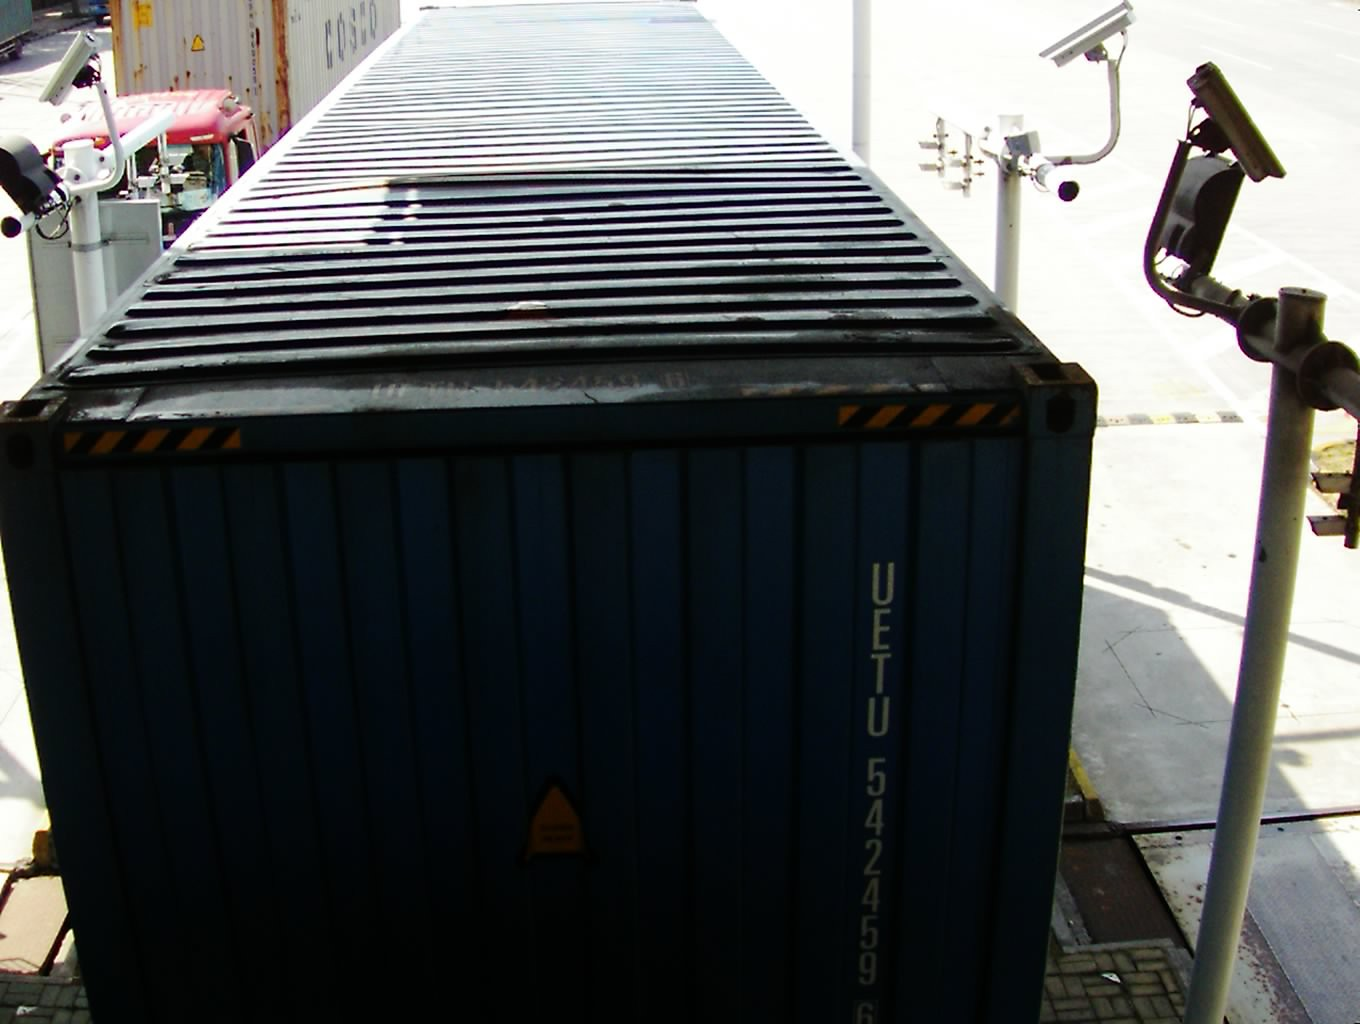words: (851, 552, 898, 1024)
